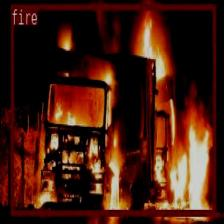fire: (10, 4, 216, 214)
